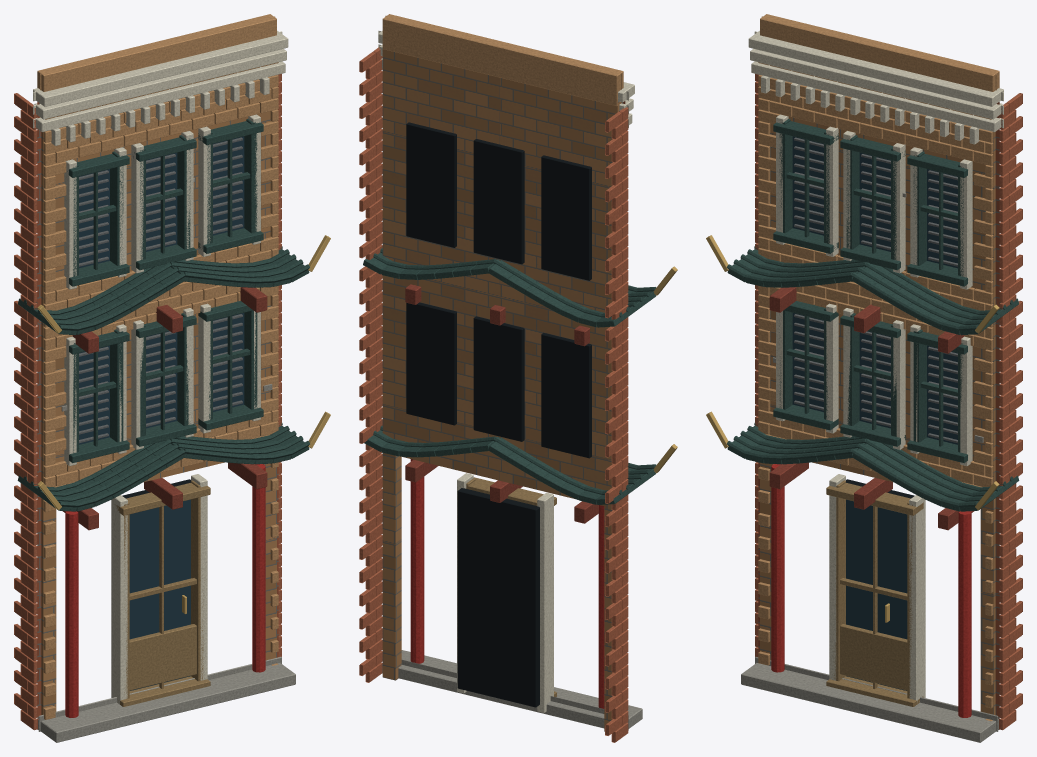
The model's file is CHINA15_lod0.glb.
3 renders of one model, left to right at view 1: azimuth 30°, elevation 25°; view 2: azimuth 150°, elevation 25°; view 3: azimuth 330°, elevation 25°, orthographic.
Visible parts, largest first — view 1: CHINA15_FRONT_LOD0; view 2: CHINA15_FRONT_LOD0; view 3: CHINA15_FRONT_LOD0.
Part boxes in pixels (left/top/right/bottom): CHINA15_FRONT_LOD0: left=14, top=14, right=330, bottom=742; CHINA15_FRONT_LOD0: left=359, top=14, right=677, bottom=742; CHINA15_FRONT_LOD0: left=706, top=14, right=1022, bottom=742.
Size of the model in its own units: 4.49 by 9.66 by 1.27.
Materials: 18 (15 with a texture image).
